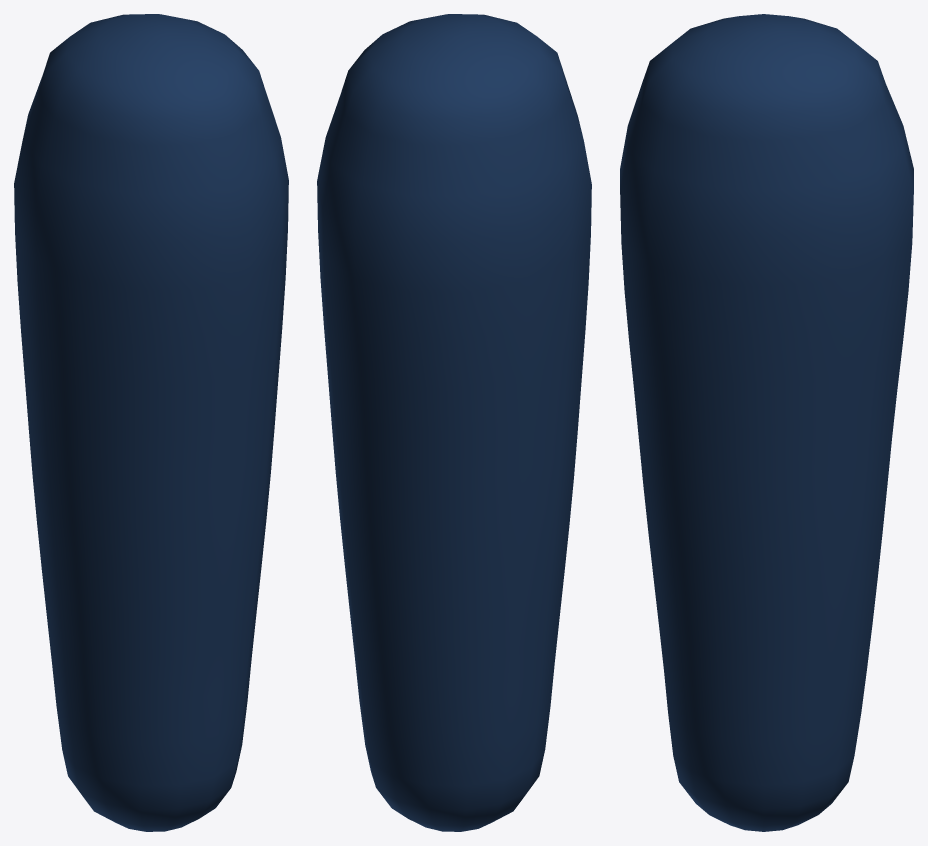
The model's file is npc_thigh_leg.glb.
3 renders of one model, left to right at view 1: azimuth 30°, elevation 25°; view 2: azimuth 150°, elevation 25°; view 3: azimuth 270°, elevation 25°, orthographic.
Parts seen in each view (by area): view 1: npc_thigh_leg; view 2: npc_thigh_leg; view 3: npc_thigh_leg.
Part boxes in pixels (bbox=[...]): npc_thigh_leg: bbox=[14, 14, 288, 831]; npc_thigh_leg: bbox=[317, 14, 591, 831]; npc_thigh_leg: bbox=[620, 14, 913, 831].
Bounding box in the file's own units: 0.168 × 0.5462 × 0.1833.
